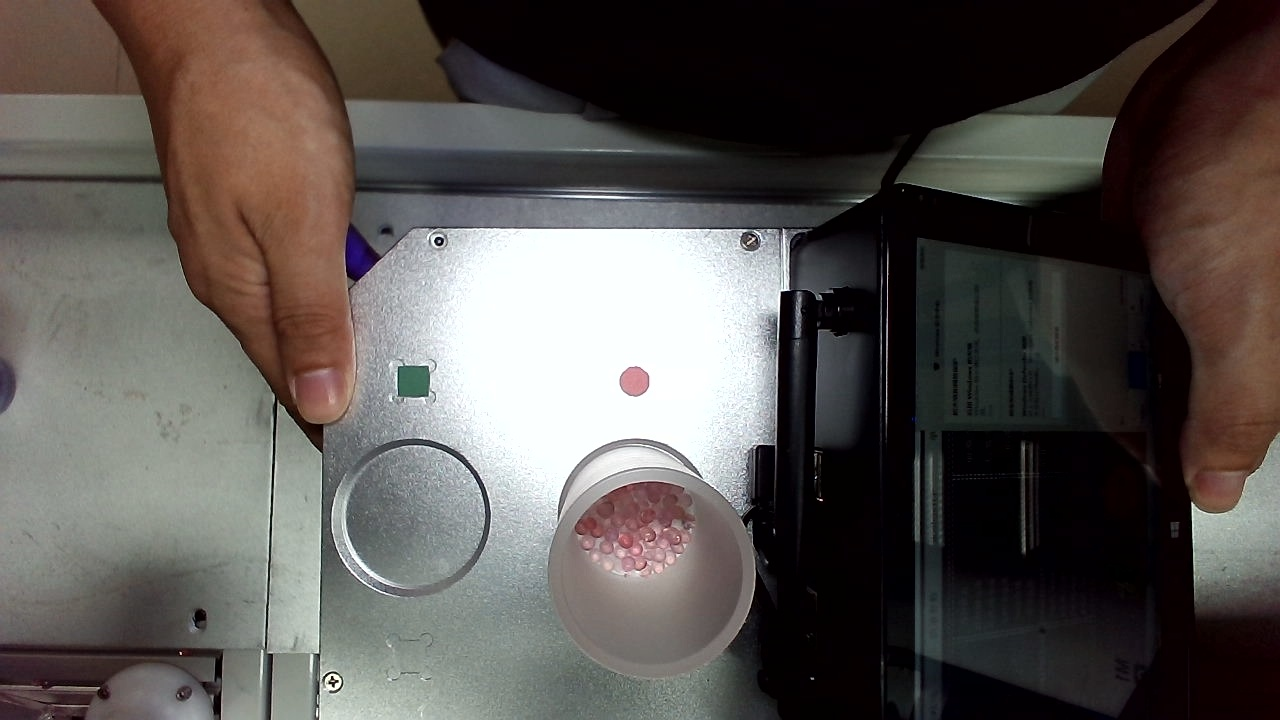bad: (769, 600, 816, 647), (254, 88, 302, 133), (282, 586, 327, 634), (745, 3, 786, 47), (258, 164, 301, 205), (705, 630, 746, 671), (679, 71, 720, 112), (831, 246, 871, 286), (285, 27, 325, 66), (837, 143, 875, 184), (540, 427, 576, 469), (807, 374, 846, 412), (358, 91, 397, 129), (397, 169, 434, 209), (806, 20, 842, 60), (723, 310, 760, 348), (409, 239, 451, 272), (845, 497, 884, 532), (839, 368, 875, 404), (813, 307, 847, 344), (764, 516, 798, 549)
defact: (705, 106, 740, 144)
pass: (640, 124, 680, 173), (465, 498, 508, 542), (628, 577, 669, 623), (830, 441, 870, 488), (370, 460, 410, 504), (813, 213, 850, 257), (744, 630, 782, 672), (587, 258, 625, 299), (449, 607, 484, 651), (540, 302, 578, 340), (532, 12, 570, 50), (784, 268, 821, 307), (687, 350, 724, 388), (682, 594, 718, 632), (670, 635, 706, 672), (556, 35, 590, 73), (529, 50, 560, 86)
toolong: (727, 393, 792, 443), (287, 139, 331, 201), (655, 548, 696, 608)
unpass: (267, 428, 313, 473), (468, 564, 506, 614), (835, 277, 877, 322), (839, 1, 875, 53), (370, 316, 410, 358), (294, 71, 337, 110), (582, 417, 621, 457), (774, 26, 810, 69), (805, 512, 842, 552), (502, 30, 539, 70), (401, 284, 439, 322), (626, 268, 663, 307), (852, 530, 889, 569), (323, 34, 360, 72), (272, 202, 311, 238), (513, 338, 548, 378), (565, 4, 600, 43), (793, 568, 827, 604), (831, 191, 866, 225), (766, 549, 800, 583)
